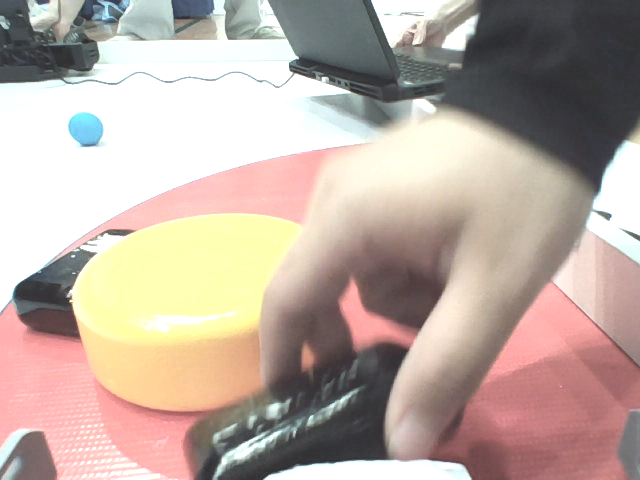black: (170, 343, 475, 477), (10, 218, 141, 345)
blue: (66, 109, 108, 153)
yellow: (65, 198, 406, 408)
